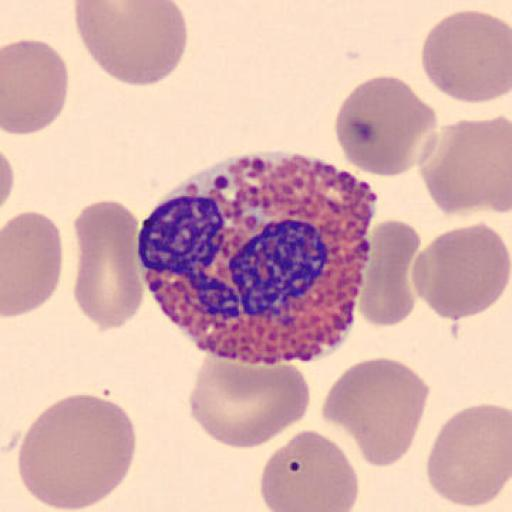RBC: (17, 392, 138, 512), (320, 356, 431, 469), (189, 356, 312, 449), (334, 74, 438, 180), (74, 0, 189, 87), (412, 220, 511, 320), (72, 197, 144, 332), (416, 116, 512, 216), (425, 402, 512, 508), (421, 8, 512, 105), (259, 429, 361, 512), (1, 209, 64, 319), (1, 37, 70, 136), (358, 218, 420, 328), (0, 147, 16, 215)
WBC: (138, 156, 374, 363)
